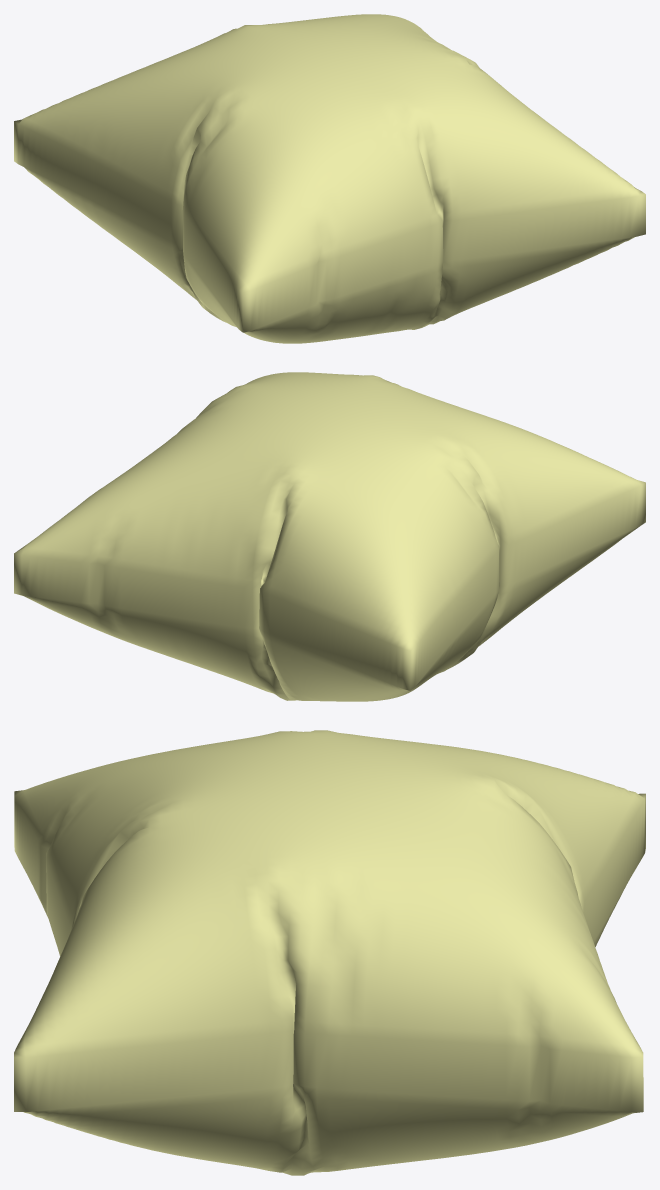
The model's file is 3D_Pillow.fbx.
3 renders of one model, top to bottom at view 1: azimuth 30°, elevation 25°; view 2: azimuth 150°, elevation 25°; view 3: azimuth 270°, elevation 25°, orthographic. The views are drawn at different scales.
Visible parts, largest first — view 1: Plane; view 2: Plane; view 3: Plane.
Part boxes in pixels (<box>): Plane: <box>14,14,645,343</box>; Plane: <box>14,372,645,701</box>; Plane: <box>14,730,645,1175</box>.
Bounding box in the file's own units: 188 × 113 × 188.
